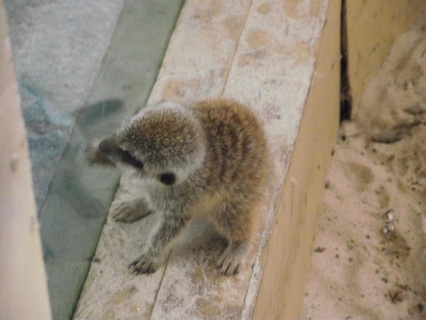Raccoon: (83, 90, 271, 277)
